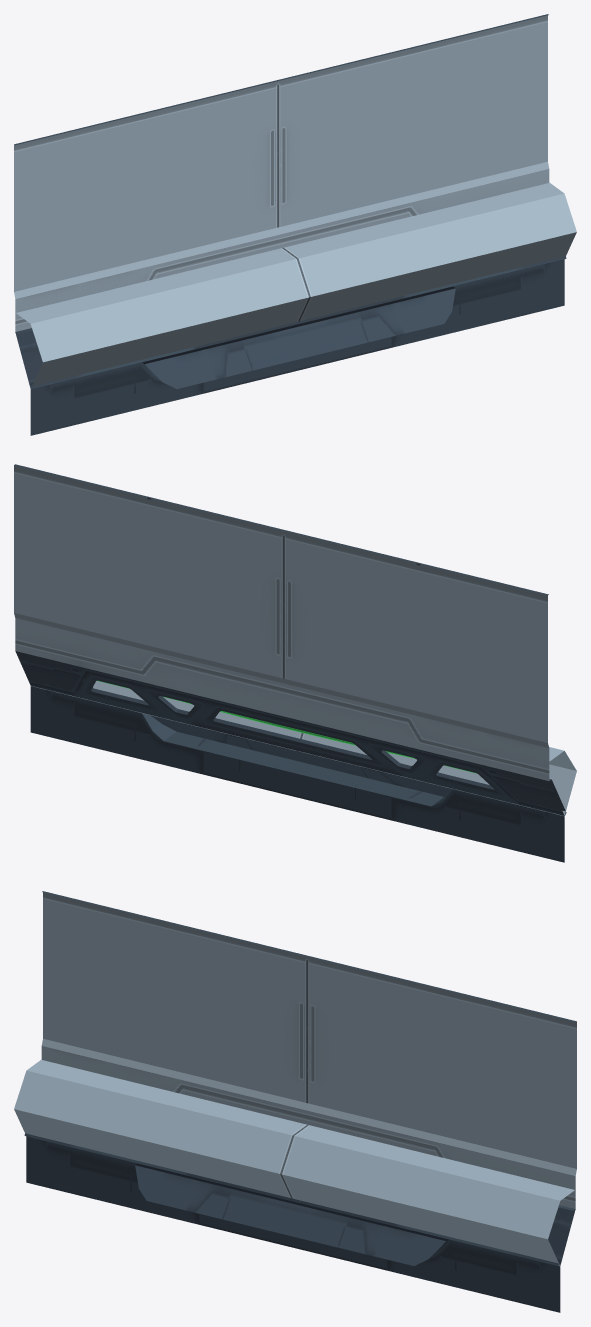
Rendered from CableHeader.glb.
3 views of the same model, one above another, from view 1: azimuth 30°, elevation 25°; view 2: azimuth 150°, elevation 25°; view 3: azimuth 330°, elevation 25° (orthographic).
Parts seen in each view (by area): view 1: RF_CableHeader_01_SecondaryMetal, RF_CableHeader_02_DarkMetal, RF_CableHeader_03_PanelPlastic; view 2: RF_CableHeader_01_SecondaryMetal, RF_CableHeader_02_DarkMetal, RF_CableHeader_00_EnergyGreen; view 3: RF_CableHeader_01_SecondaryMetal, RF_CableHeader_02_DarkMetal, RF_CableHeader_03_PanelPlastic.
Boxes of the visible parts, x1=… form: RF_CableHeader_01_SecondaryMetal: x1=14, y1=15, x2=576, y2=388; RF_CableHeader_02_DarkMetal: x1=14, y1=14, x2=566, y2=435; RF_CableHeader_03_PanelPlastic: x1=142, y1=286, x2=455, y2=364; RF_CableHeader_01_SecondaryMetal: x1=14, y1=465, x2=576, y2=816; RF_CableHeader_02_DarkMetal: x1=14, y1=464, x2=566, y2=862; RF_CableHeader_00_EnergyGreen: x1=97, y1=680, x2=476, y2=773; RF_CableHeader_01_SecondaryMetal: x1=14, y1=892, x2=576, y2=1265; RF_CableHeader_02_DarkMetal: x1=24, y1=891, x2=576, y2=1312; RF_CableHeader_03_PanelPlastic: x1=135, y1=1163, x2=448, y2=1241.
Bounding box in the file's own units: 9.6 × 4.8 × 0.9213.
4 materials, 4 textured.
